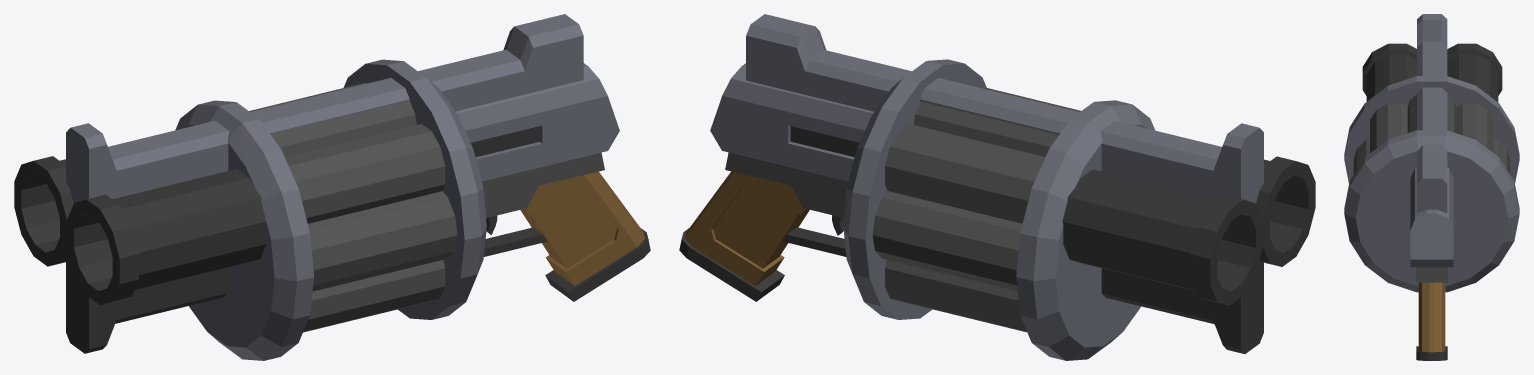
Rendered from launcher.glb.
3 renders of one model, left to right at view 1: azimuth 30°, elevation 25°; view 2: azimuth 150°, elevation 25°; view 3: azimuth 270°, elevation 25°, orthographic. The views are drawn at different scales.
Parts seen in each view (by area): view 1: GrenadeLauncher; view 2: GrenadeLauncher; view 3: GrenadeLauncher.
Boxes of the visible parts, x1,y1,x2,y2 form: GrenadeLauncher: [14, 14, 650, 360]; GrenadeLauncher: [679, 14, 1315, 360]; GrenadeLauncher: [1344, 14, 1519, 360].
Bounding box in the file's own units: 1.2 × 0.5549 × 0.4779.
